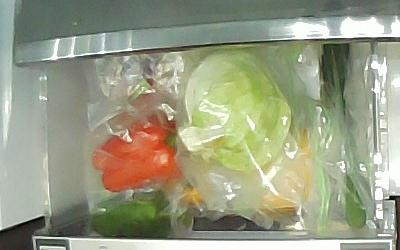cucumber_vinyl: (320, 43, 367, 231)
lettuce_vinyl: (177, 48, 292, 172)
paprika_vinyl: (92, 111, 184, 192), (93, 191, 173, 239)
